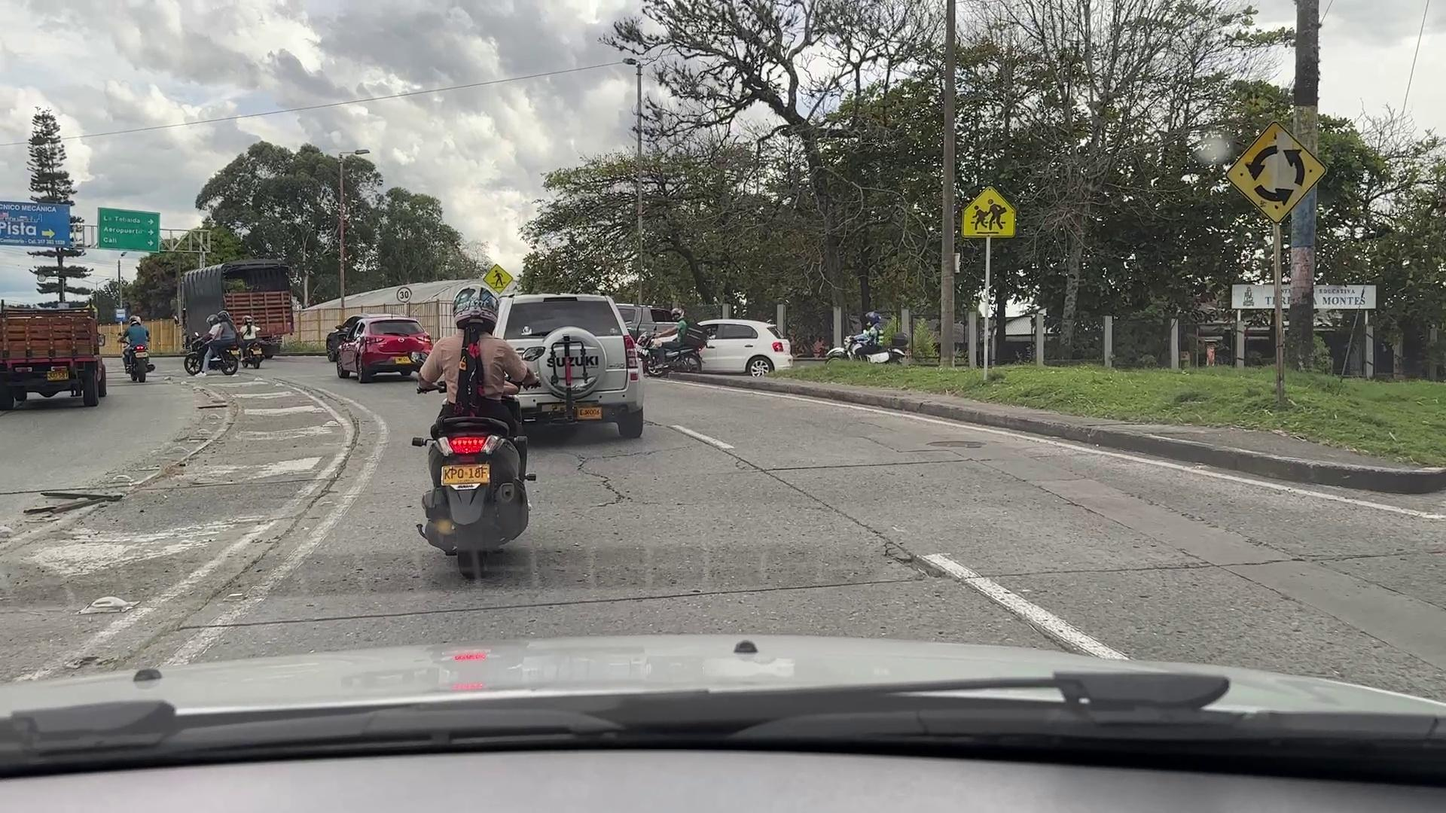bache: (886, 540, 952, 581)
grieta: (575, 449, 670, 508)
registro: (929, 440, 983, 448)
